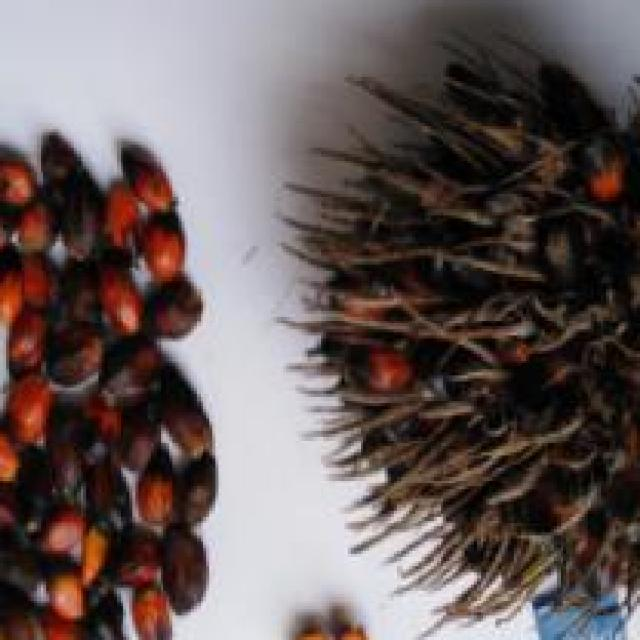unripe: (221, 0, 640, 640)
